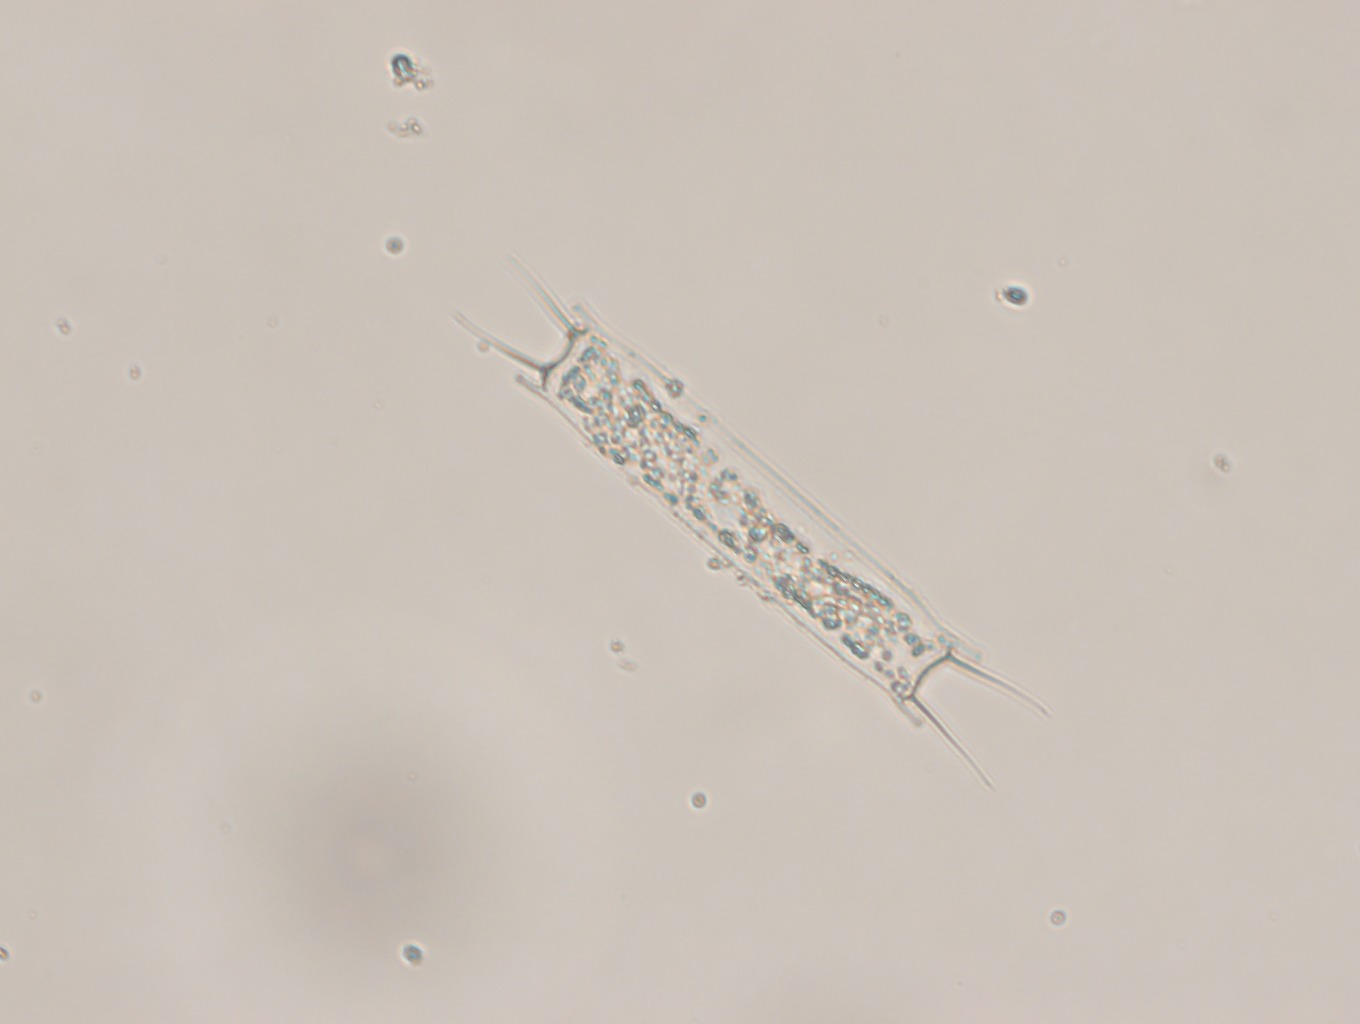biddulphia: (450, 260, 1053, 790)
